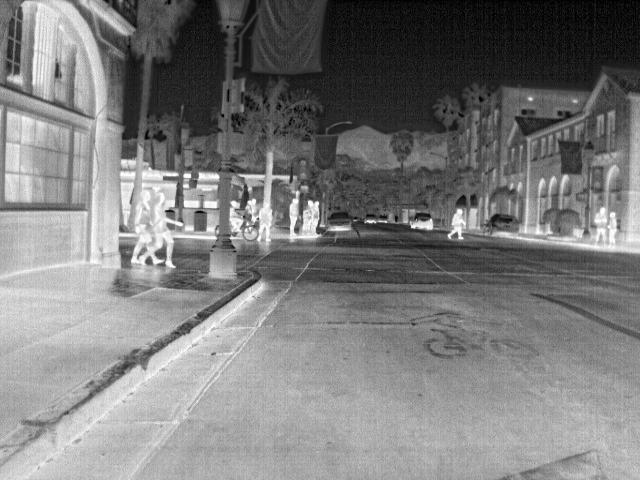car: (325, 210, 356, 234), (486, 213, 519, 235), (407, 211, 436, 231), (364, 213, 378, 226), (377, 213, 389, 225)
person: (136, 193, 187, 273), (127, 190, 160, 268), (445, 206, 467, 242), (258, 197, 276, 241), (284, 199, 303, 238), (593, 204, 609, 246), (303, 198, 317, 235), (229, 198, 244, 232), (311, 199, 324, 236), (608, 208, 620, 244)
